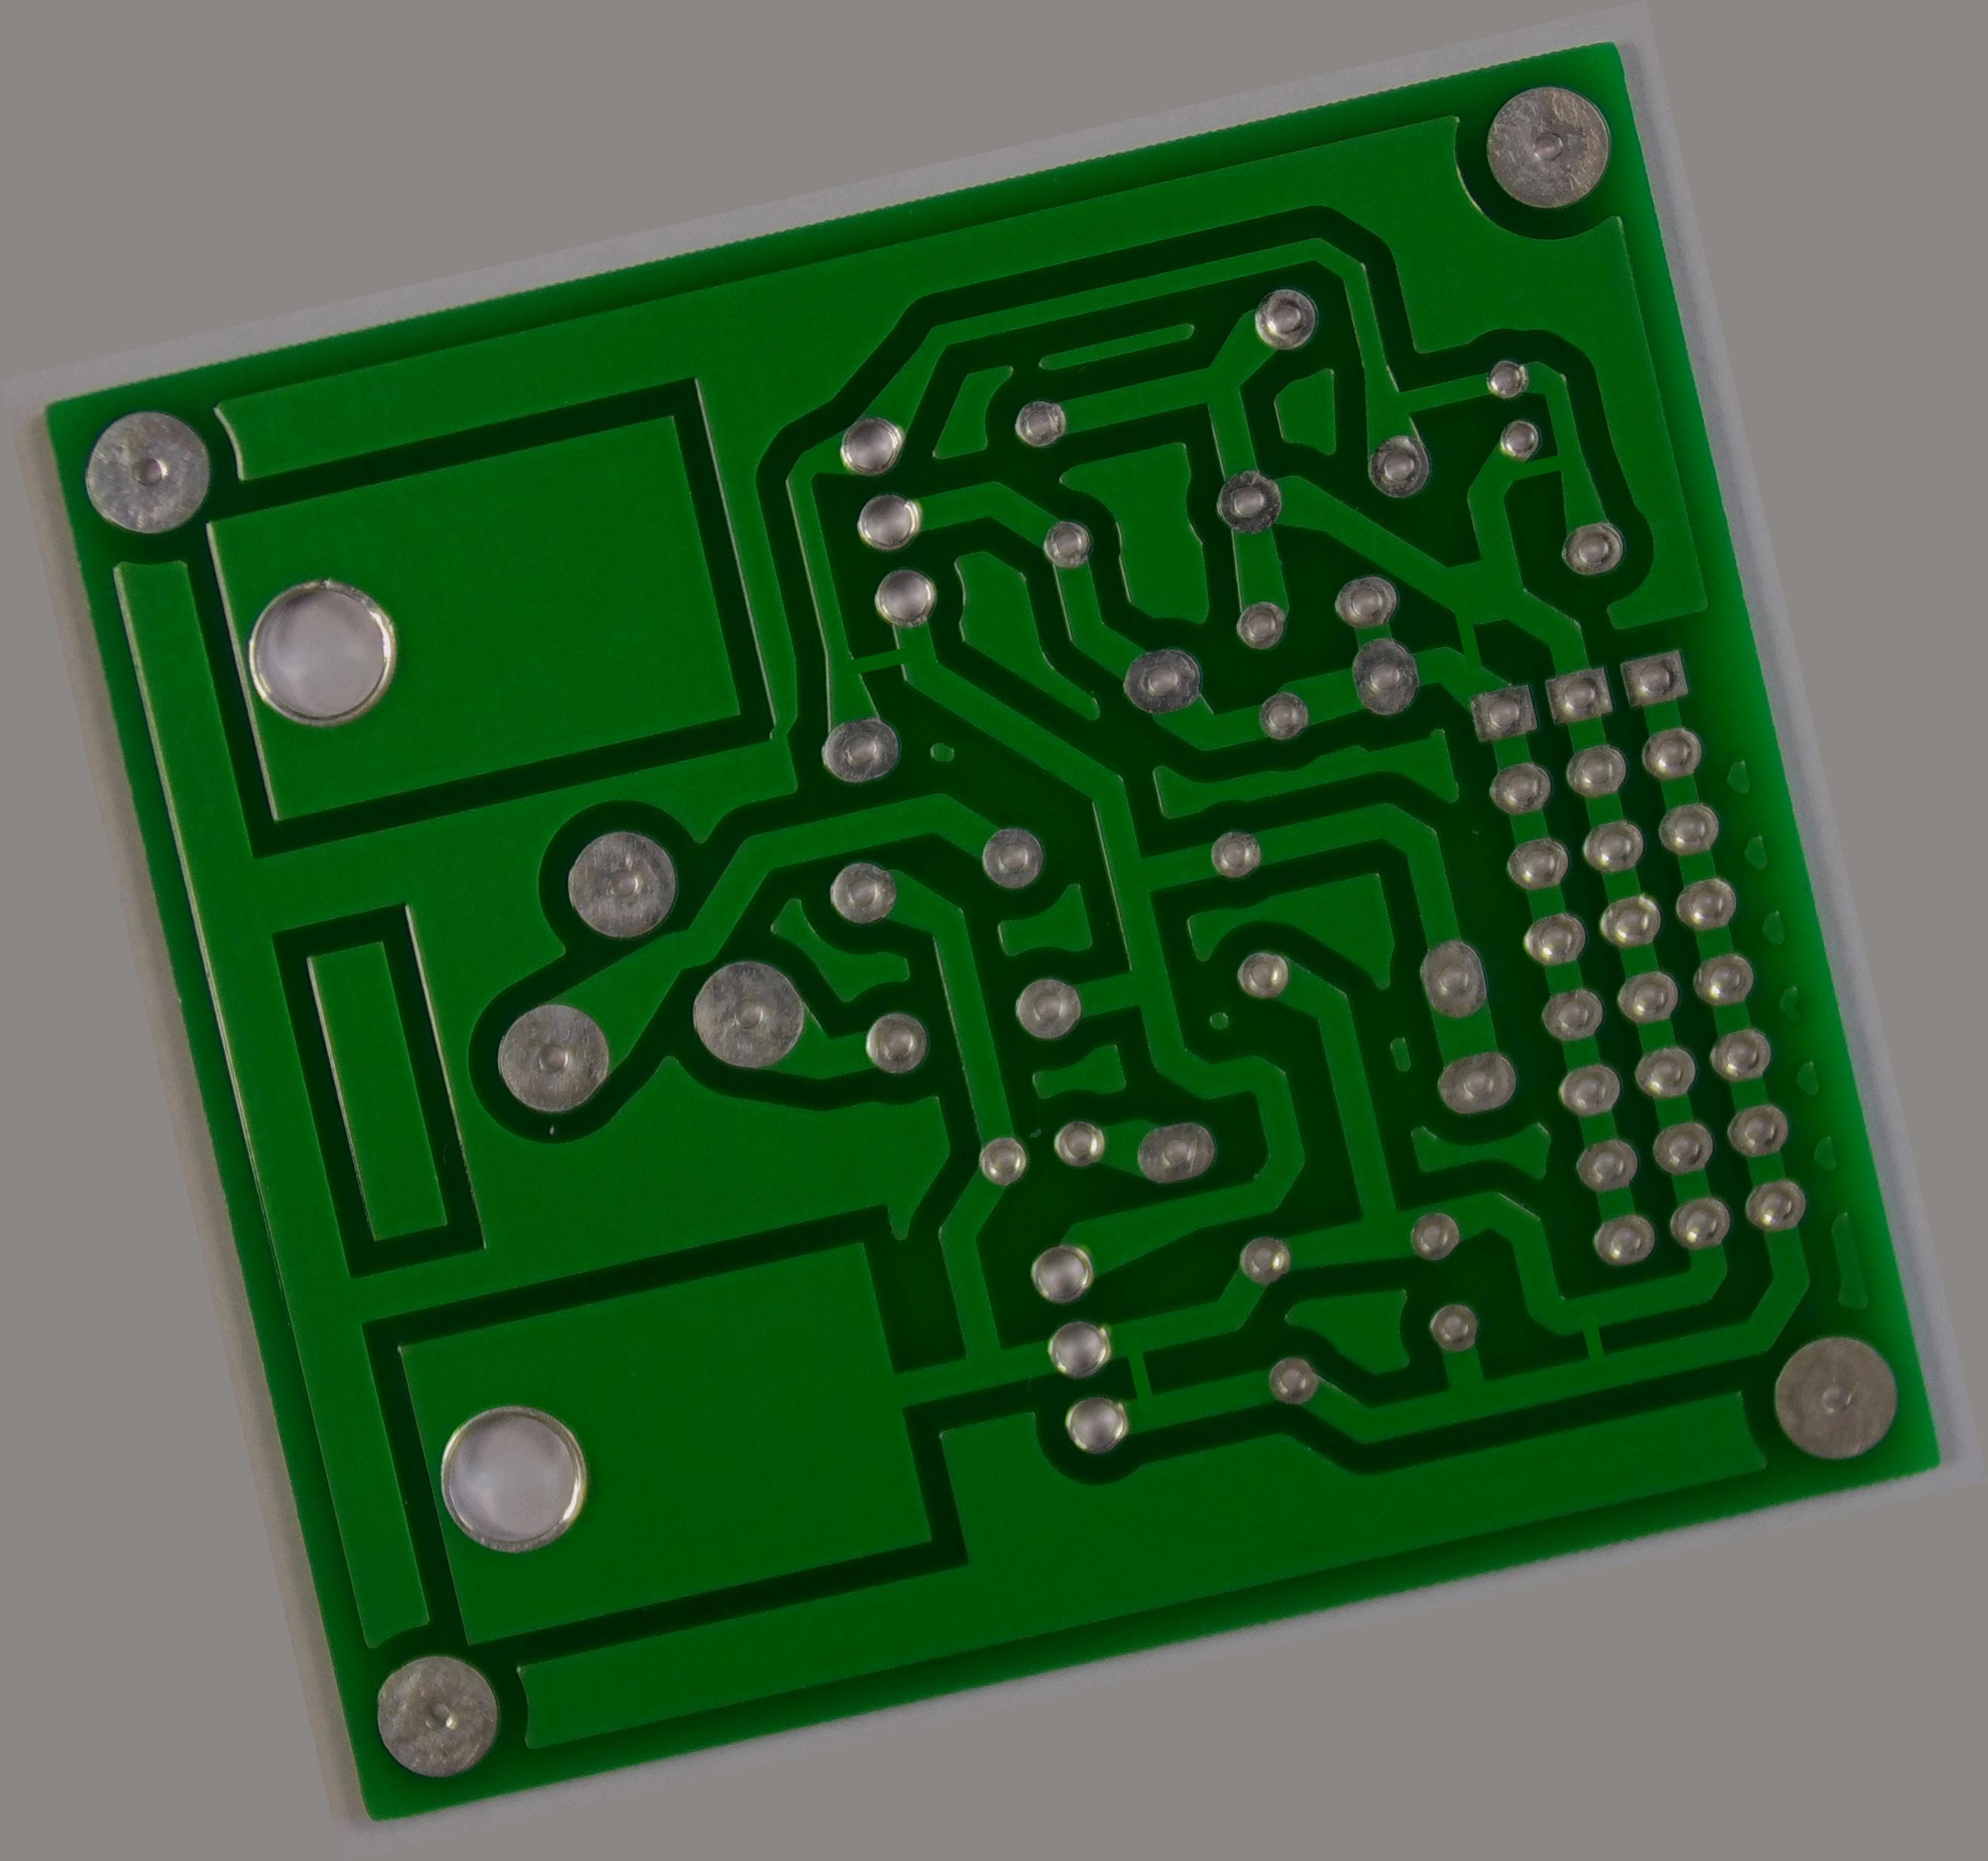short: (1076, 1308, 1193, 1446), (808, 609, 955, 719), (1529, 1270, 1648, 1401), (1421, 561, 1514, 689), (1474, 416, 1587, 512)
